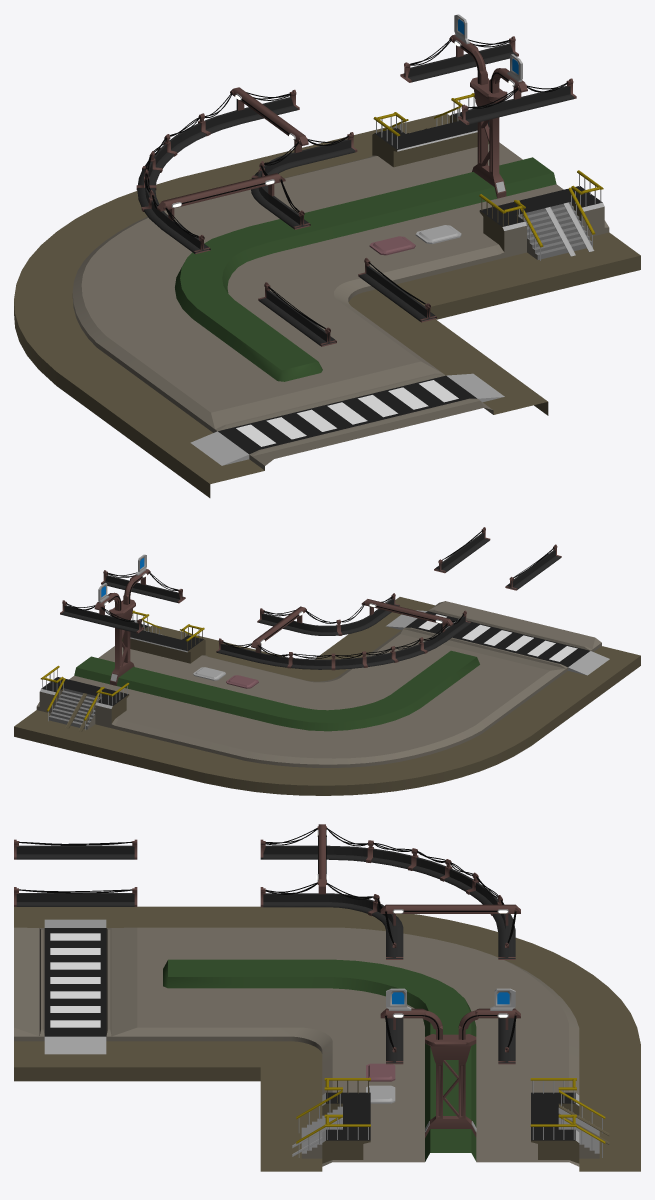
The model's file is TramwayRoad.fbx.
The picture shows the model from 3 angles, top to bottom: view 1: azimuth 30°, elevation 25°; view 2: azimuth 150°, elevation 25°; view 3: azimuth 270°, elevation 25°; orthographic projection. The views are drawn at different scales.
Parts seen in each view (by area): view 1: Plane.001, Plane.010, Plane, Plane.002, Plane.003, Plane.017, Plane.016, Plane.005; view 2: Plane.001, Plane.010, Plane.003, Plane, Plane.002, Plane.017, Plane.016, Plane.005; view 3: Plane.001, Plane.010, Plane.002, Plane, Plane.003, Plane.017, Plane.016, Plane.005, Plane.011, Plane.014.
Part boxes in pixels (bbox=[...]): Plane.001: bbox=[14, 166, 407, 405]; Plane.010: bbox=[336, 93, 640, 296]; Plane: bbox=[147, 355, 548, 497]; Plane.002: bbox=[83, 312, 484, 451]; Plane.003: bbox=[227, 139, 531, 319]; Plane.017: bbox=[136, 87, 357, 254]; Plane.016: bbox=[400, 34, 576, 198]; Plane.005: bbox=[258, 257, 436, 346]; Plane.001: bbox=[170, 668, 550, 795]; Plane.010: bbox=[14, 610, 230, 755]; Plane.003: bbox=[92, 644, 300, 774]; Plane: bbox=[361, 597, 640, 698]; Plane.002: bbox=[315, 631, 595, 731]; Plane.017: bbox=[216, 593, 471, 670]; Plane.016: bbox=[60, 569, 185, 685]; Plane.005: bbox=[434, 527, 561, 590]; Plane.001: bbox=[260, 907, 640, 1067]; Plane.010: bbox=[260, 1078, 640, 1171]; Plane.002: bbox=[137, 906, 260, 1081]; Plane: bbox=[14, 907, 137, 1081]; Plane.003: bbox=[260, 1048, 640, 1119]; Plane.017: bbox=[260, 824, 520, 959]; Plane.016: bbox=[380, 1008, 520, 1137]; Plane.005: bbox=[14, 839, 137, 906]; Plane.011: bbox=[386, 988, 515, 1010]; Plane.014: bbox=[366, 1063, 395, 1081].
Size of the model in its own units: 3050 by 914 by 3050.
